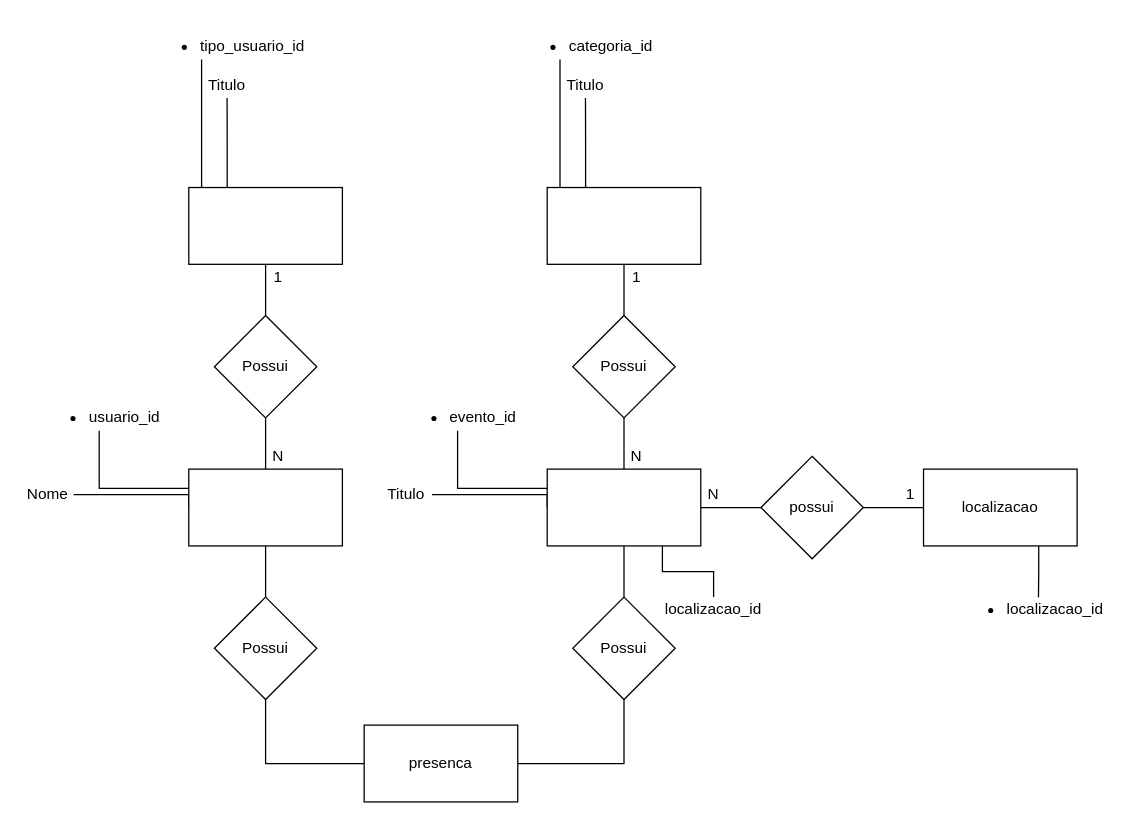
Some shapes in this 1125 by 824 pixel diagram are drawn without their labels. Here are the shapes that lost their labels. From the top down, the box of each, then its label:
(188, 186, 342, 264): tipo_usuario
(546, 186, 701, 264): categoria
(188, 468, 342, 546): usuario
(546, 468, 701, 546): evento
